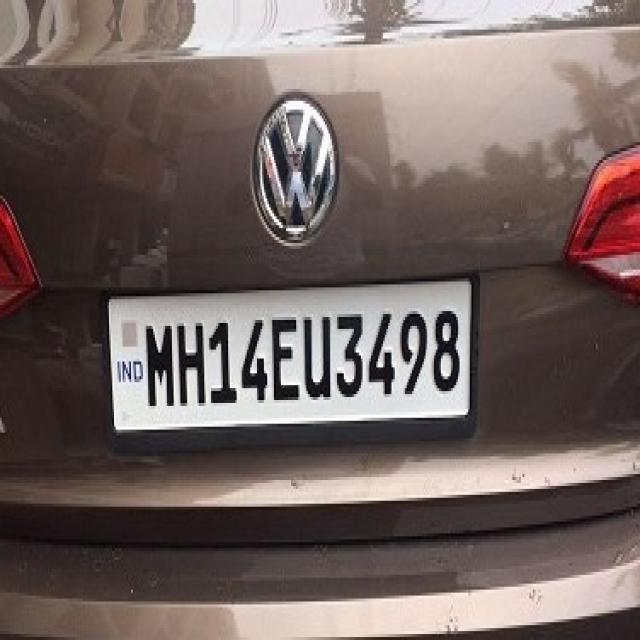license-plate: (106, 276, 468, 430)
